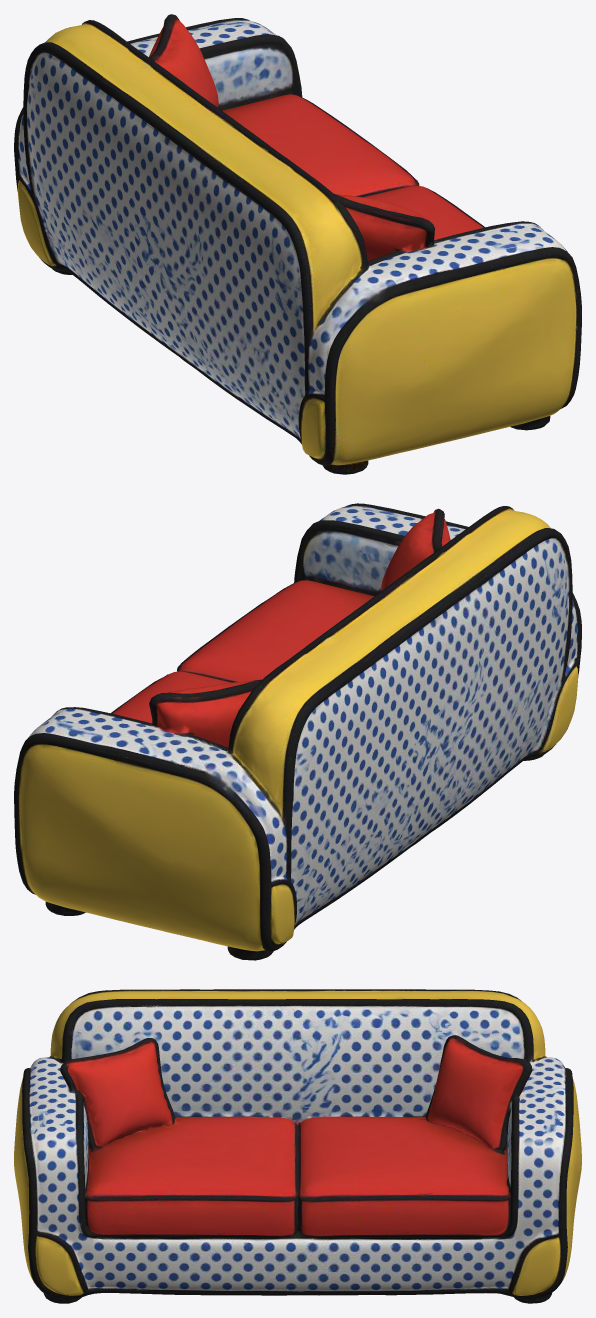
The model's file is ts_comicsofa.glb.
3 renders of one model, top to bottom at view 1: azimuth 30°, elevation 25°; view 2: azimuth 150°, elevation 25°; view 3: azimuth 270°, elevation 25°, orthographic. The views are drawn at different scales.
Parts seen in each view (by area): view 1: tripo_node_874fccef-159d-42e8-8736-ddbe56b6fdeb; view 2: tripo_node_874fccef-159d-42e8-8736-ddbe56b6fdeb; view 3: tripo_node_874fccef-159d-42e8-8736-ddbe56b6fdeb.
Boxes of the visible parts, x1=… form: tripo_node_874fccef-159d-42e8-8736-ddbe56b6fdeb: x1=14, y1=14, x2=581, y2=474; tripo_node_874fccef-159d-42e8-8736-ddbe56b6fdeb: x1=14, y1=503, x2=581, y2=960; tripo_node_874fccef-159d-42e8-8736-ddbe56b6fdeb: x1=14, y1=989, x2=581, y2=1303.
Size of the model in its own units: 0.4737 by 0.4339 by 1.
1 material, 1 textured.
